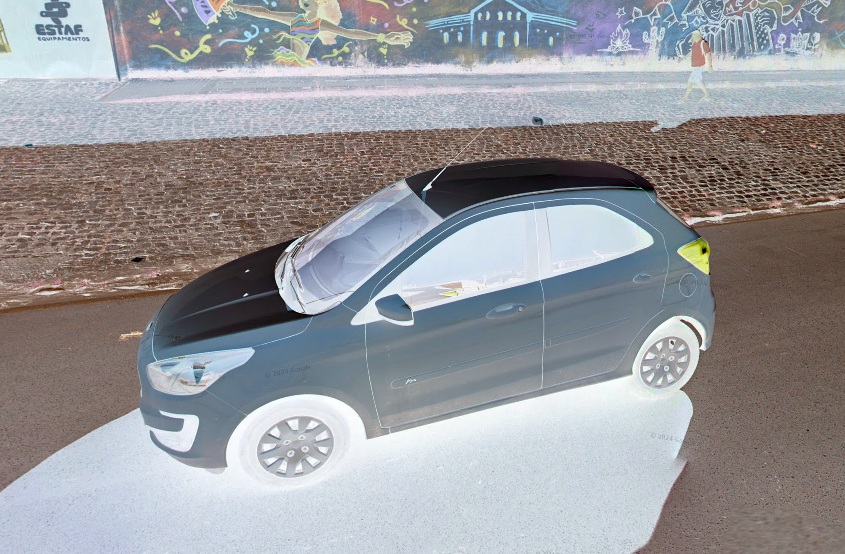car: (131, 127, 722, 490)
